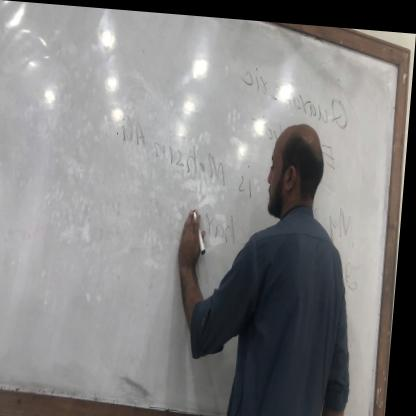Handwritten text: (100, 103, 372, 259), (235, 59, 358, 123), (255, 113, 344, 171), (191, 199, 246, 249)
Lecturer: (174, 106, 377, 416)
